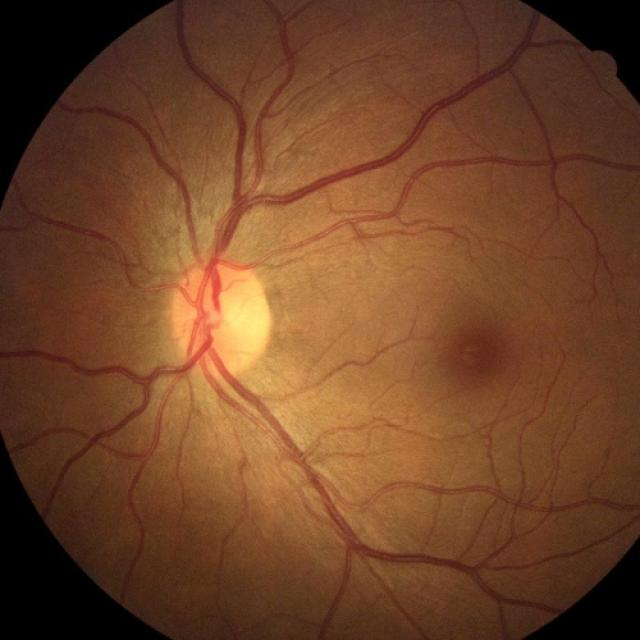OC: (209, 297, 243, 334)
OD: (170, 261, 273, 377)
